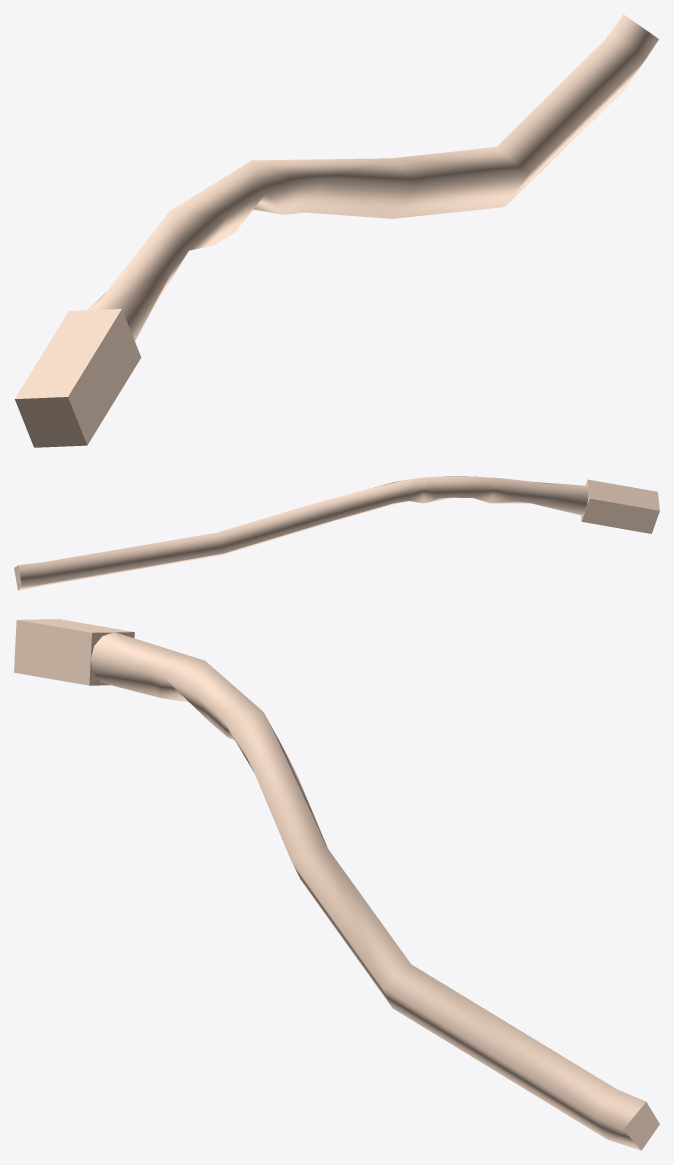
File: Marteau - tige_Quarts M.obj
The picture shows the model from 3 angles, top to bottom: view 1: azimuth 30°, elevation 25°; view 2: azimuth 150°, elevation 25°; view 3: azimuth 270°, elevation 25°; orthographic projection. The views are drawn at different scales.
Visible parts, largest first — view 1: Face_1, Face_9, Face_10, Face_12, Face_2; view 2: Face_1, Face_8, Face_9, Face_2; view 3: Face_1, Face_10, Face_2, Face_3.
Boxes of the visible parts, x1,y1,x2,y2 form: Face_1: (87, 34, 646, 340); Face_9: (15, 309, 121, 398); Face_10: (68, 309, 141, 444); Face_12: (15, 397, 87, 447); Face_2: (606, 14, 658, 57); Face_1: (41, 476, 588, 585); Face_8: (581, 498, 659, 533); Face_9: (587, 479, 659, 510); Face_2: (18, 562, 44, 590); Face_1: (90, 632, 616, 1139); Face_10: (14, 620, 91, 685); Face_2: (594, 1089, 645, 1150); Face_3: (623, 1102, 659, 1150).
Size of the model in its own units: 0.0458 by 0.00976 by 0.0304.
